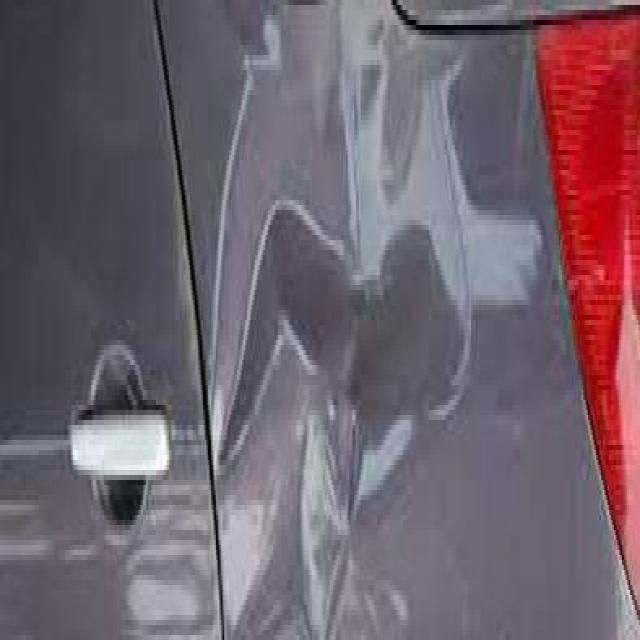dent: (178, 5, 482, 640)
